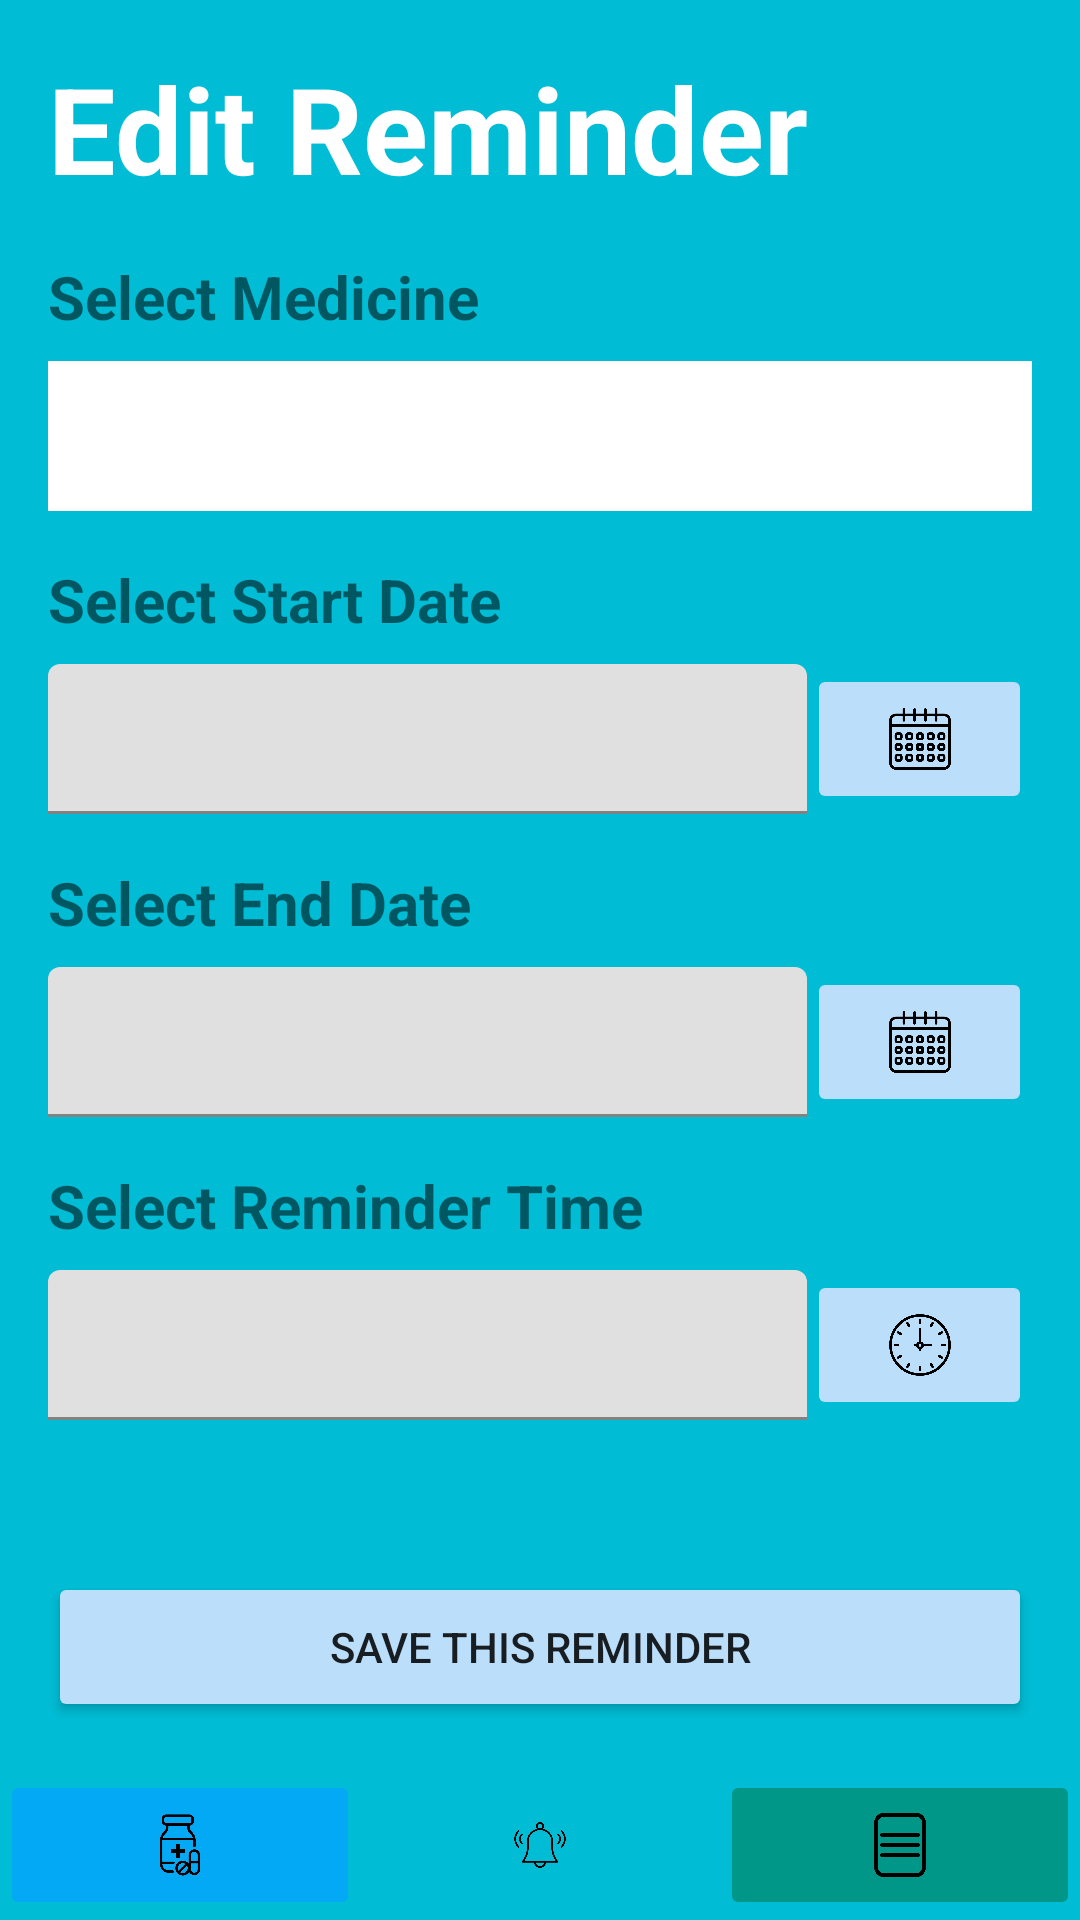

Icon click points for this 1080×1920 phone screenshot, format [x,y]:
alarm: [540,1845]
calendar: [919,739], [919,1042]
clock: [919,1345]
medicine: [180,1845]
report: [900,1845]
